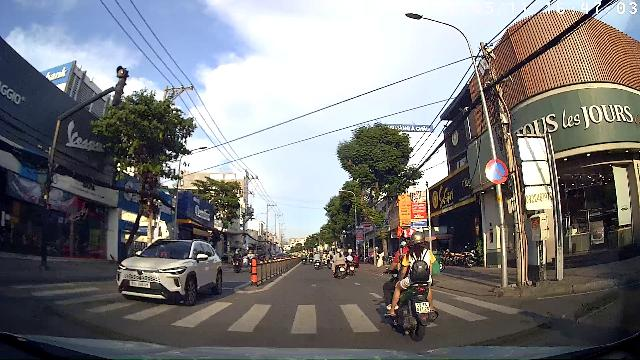131a-cam-do-xe: (485, 158, 509, 184)
